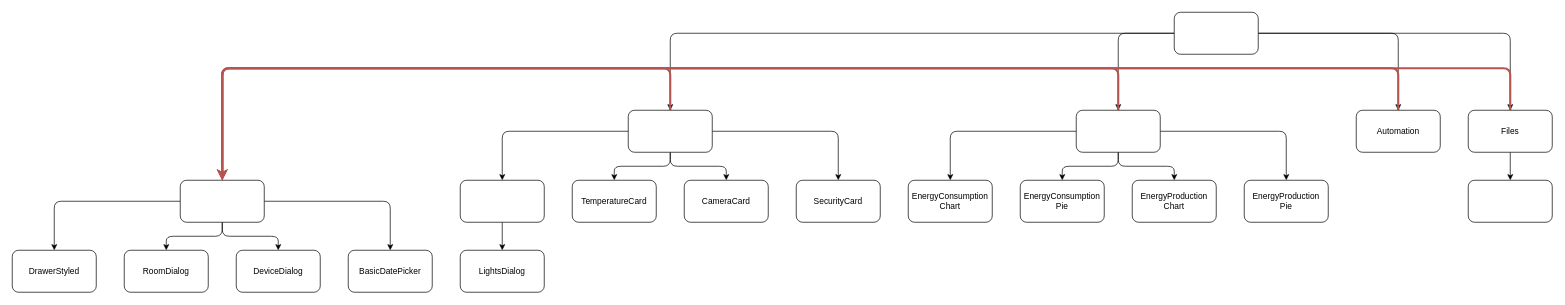
Some shapes in this 1565 by 305 pixel diagram are drawn without their labels. Here are the shapes that lost their labels. From the top down, the centre of each, then its label:
At pixel 1216 33: "main".
At pixel 670 131: "Dashboard".
At pixel 1118 131: "Energy".
At pixel 222 201: "AppBarStyled".
At pixel 502 201: "LightsCard".
At pixel 1510 201: "FilesTable".
